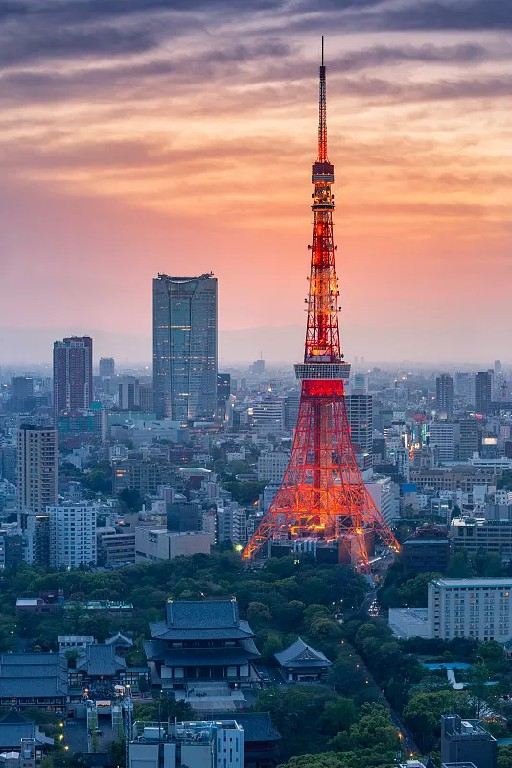Tokyo: (237, 36, 403, 577)
